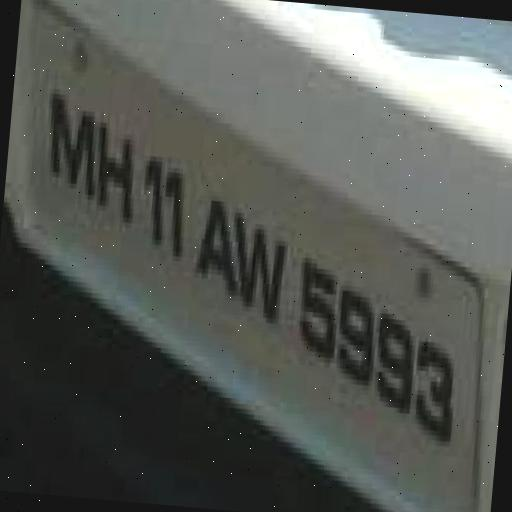number plate: (0, 31, 507, 482)
